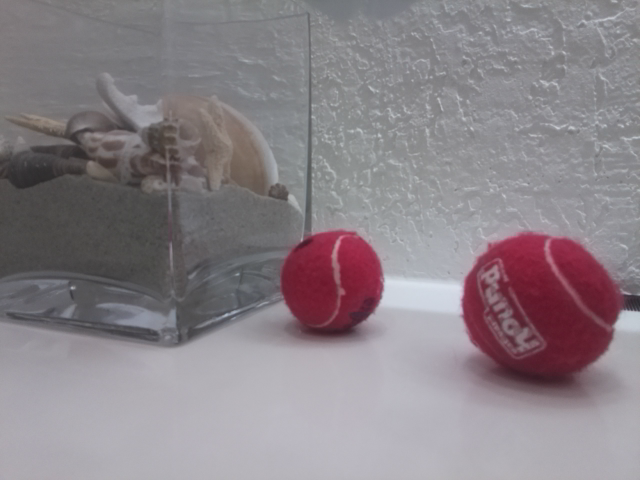red-ball: (458, 231, 621, 384), (279, 229, 386, 335)
